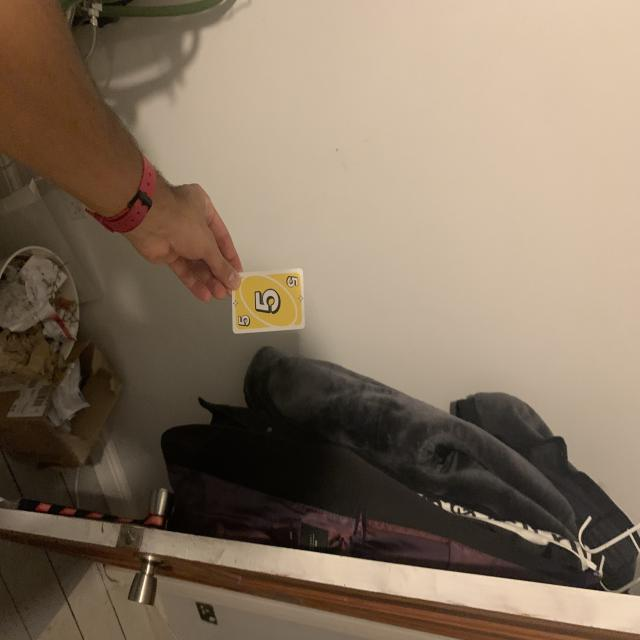lyellow-5: (284, 272, 300, 290)
